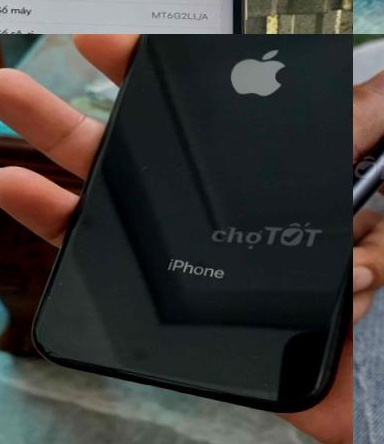scratch: (29, 272, 73, 305), (256, 377, 299, 403), (131, 76, 157, 97), (131, 161, 156, 176), (76, 246, 92, 261)
